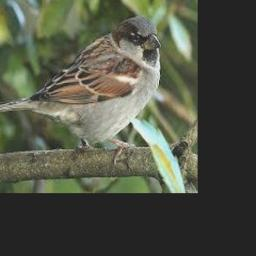Sparrow: (0, 15, 160, 163)
